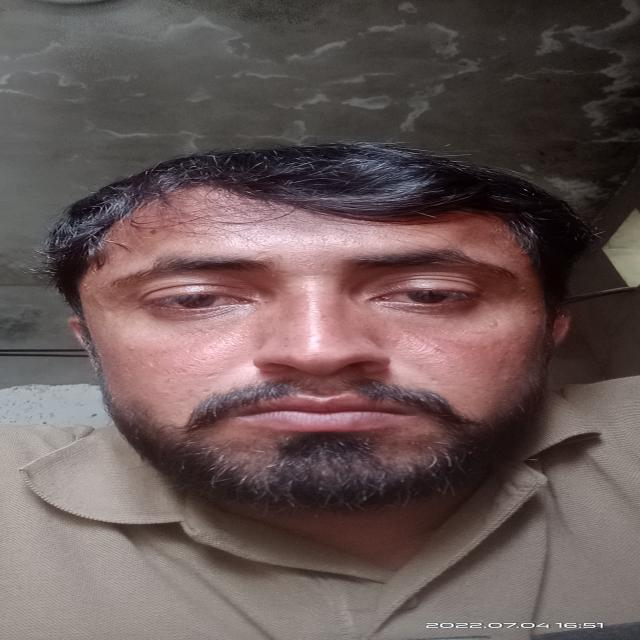Acne: (528, 306, 542, 317), (194, 239, 207, 245), (80, 282, 90, 288), (520, 286, 529, 292), (498, 359, 505, 363)
Englarged-Pores: (176, 328, 251, 374), (385, 329, 455, 369)
Wrinkles: (293, 273, 332, 278)
